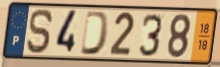2: (108, 11, 137, 59)
3: (138, 12, 164, 58)
4: (54, 8, 80, 57)
8: (167, 13, 192, 60)
D: (78, 10, 111, 57)
S: (25, 7, 55, 56)
